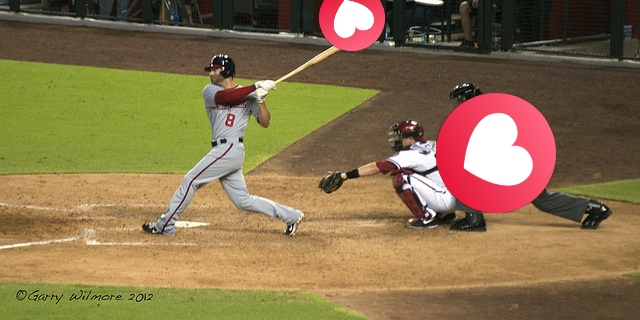love: (436, 93, 556, 213), (319, 0, 385, 51)
